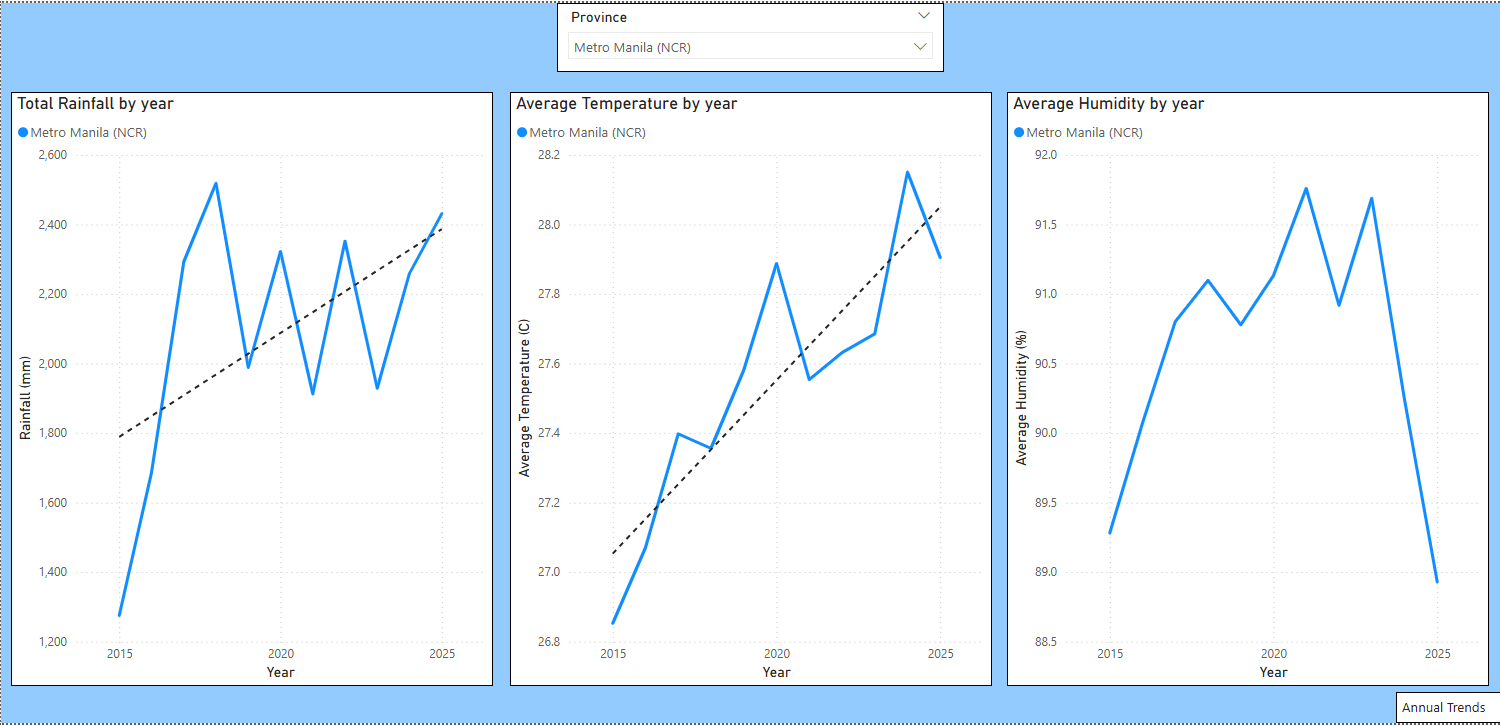

This screenshot's page, from the dashboard's own definition file:
{"tool":"powerbi","page":{"name":"Annual Trends","canvas":[1500,720],"ordinal":3},"visuals":[{"type":"lineChart","title":"Total Rainfall by year","fields":{"Y":["Avg(mart_annual_trends.total_yearly_rain)"],"Category":["mart_annual_trends.year"],"Series":["mart_annual_trends.province"]},"box":[10,89,482,594],"z":0},{"type":"slicer","fields":{"Values":["mart_annual_trends.province"]},"box":[556,0,387,69],"z":1000},{"type":"lineChart","title":"Average Temperature by year","fields":{"Category":["mart_annual_trends.year"],"Series":["mart_annual_trends.province"],"Y":["Avg(mart_annual_trends.avg_yearly_temp)"]},"box":[509,89,482,594],"z":2000},{"type":"lineChart","title":"Average Humidity by year","fields":{"Category":["mart_annual_trends.year"],"Series":["mart_annual_trends.province"],"Y":["Avg(mart_annual_trends.avg_yearly_max_humidity)"]},"box":[1006,89,482,594],"z":3000},{"type":"textbox","box":[1395,689,105,31],"z":3001}]}

Visuals, with their boxes in screenshot pixels (x1, y1, x2, y2), scaled from the page's 1500x720 canvas onto the 1500x726 screenshot:
"Total Rainfall by year" lineChart: x1=10 y1=90 x2=492 y2=689
slicer - mart_annual_trends.province: x1=556 y1=0 x2=943 y2=70
"Average Temperature by year" lineChart: x1=509 y1=90 x2=991 y2=689
"Average Humidity by year" lineChart: x1=1006 y1=90 x2=1488 y2=689
textbox: x1=1395 y1=695 x2=1499 y2=725
